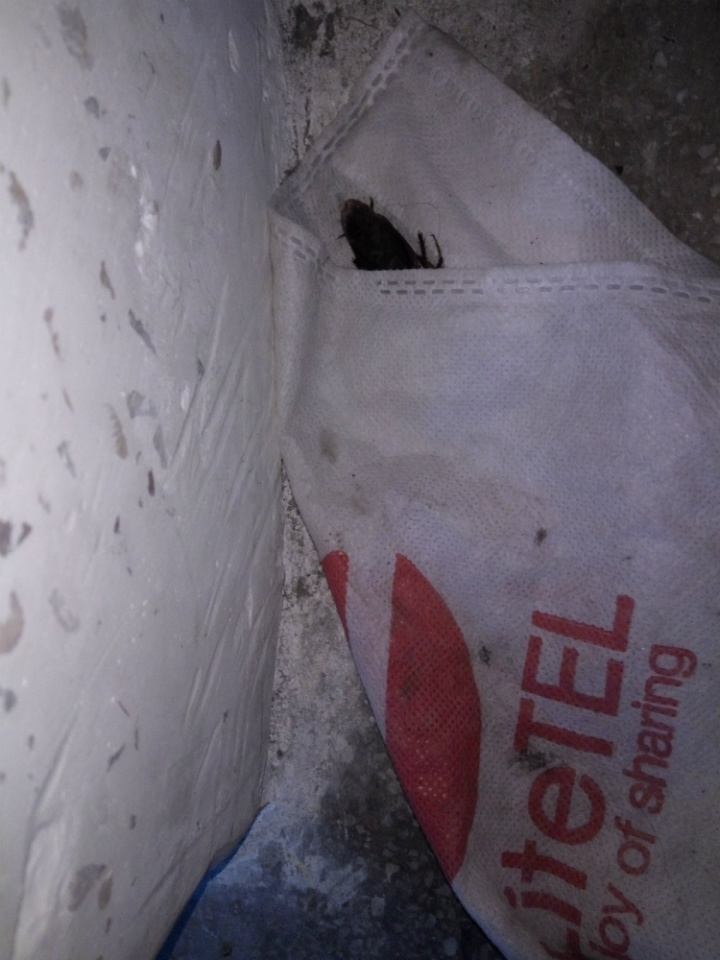cockroach: (307, 178, 476, 280)
